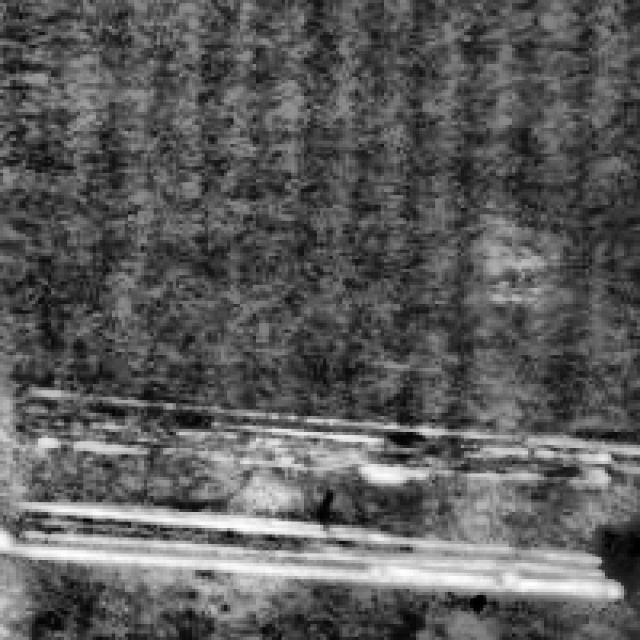Inclusion: (0, 492, 611, 598), (233, 406, 604, 479)
